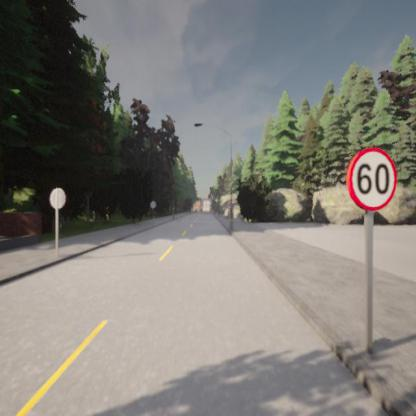traffic_sign_60: (346, 148, 398, 211)
